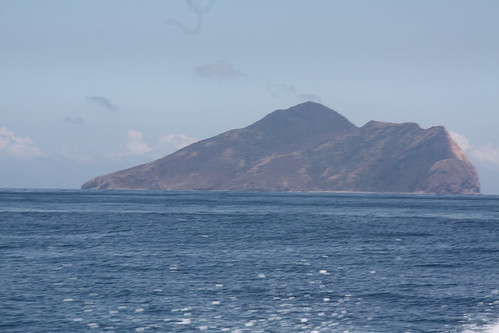turtleIsland: (81, 97, 481, 199)
